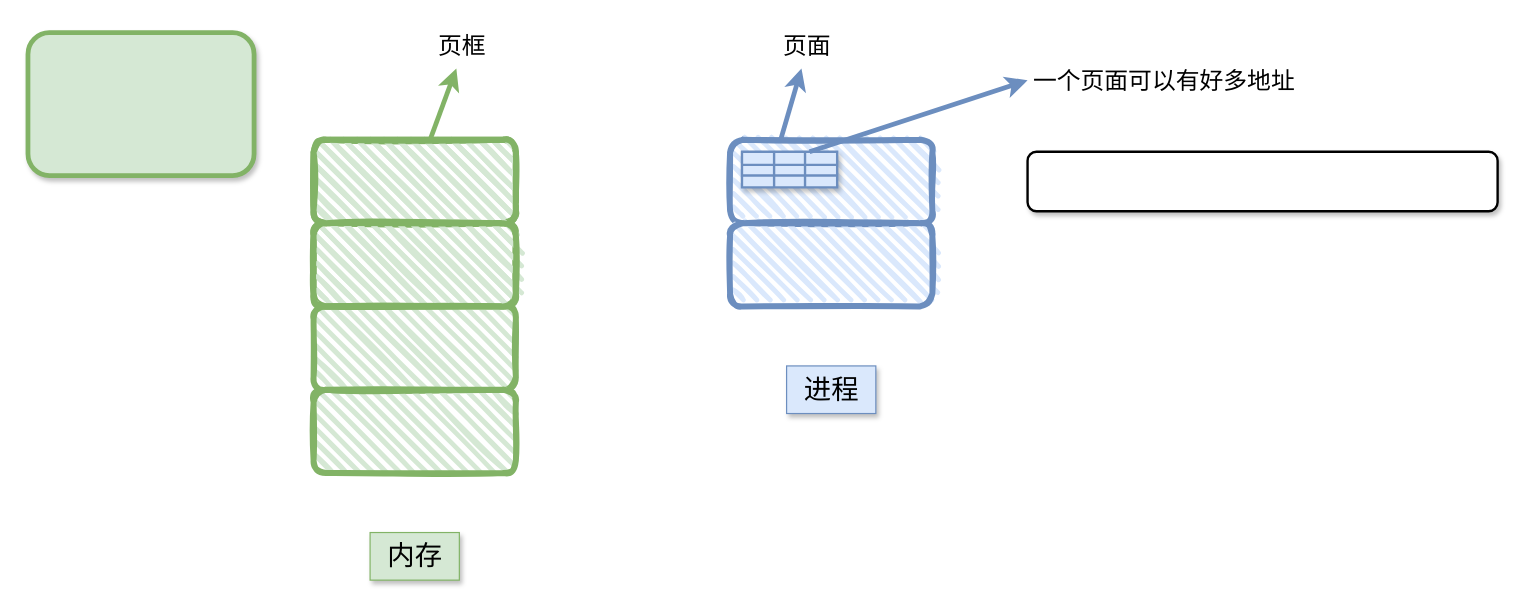
Image size: 1526x609. Some labels were removed from this diagram. Here are the shapes that lost their labels. From the top down, the centre of each, then its label:
At [141,105]: "页式存储".
At [1263,182]: "逻辑地址表示为（页号，页内偏移）".
